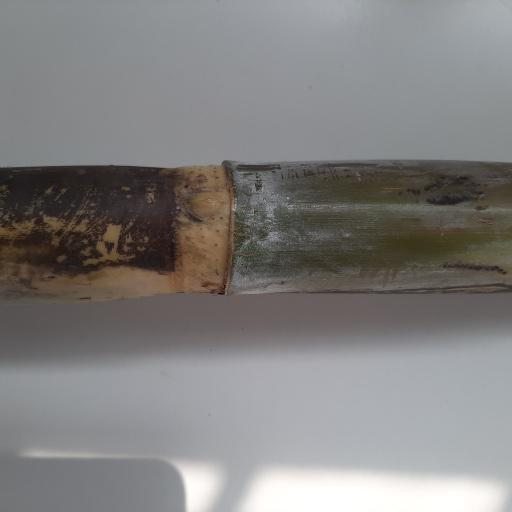Bud: (182, 187, 224, 222)
